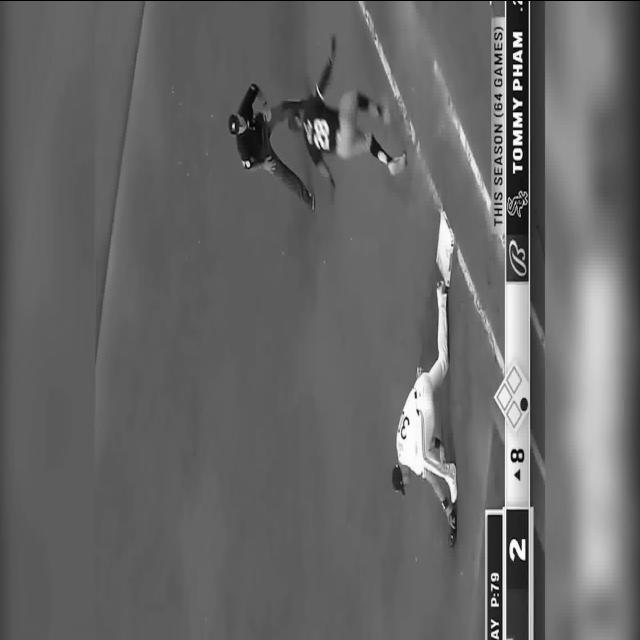base: (437, 216, 453, 272)
baseball_glove: (448, 512, 457, 548)
shoe: (388, 152, 407, 176), (449, 462, 457, 503), (378, 104, 391, 125), (328, 34, 336, 64), (436, 280, 448, 294), (306, 190, 314, 210)
